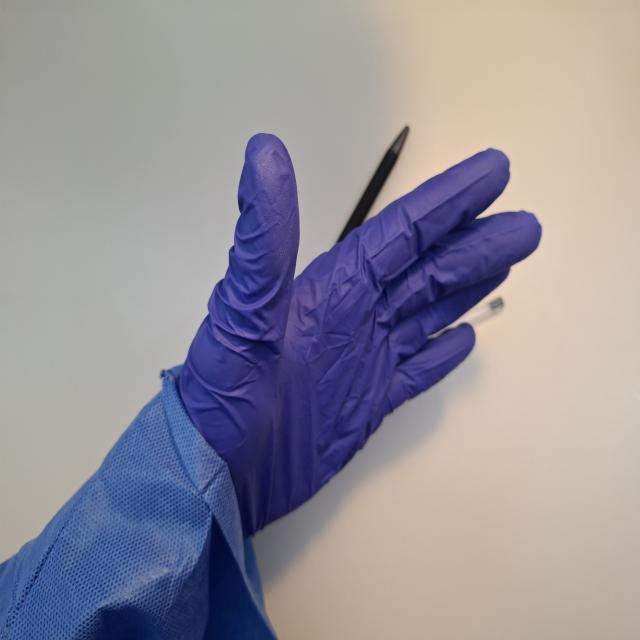glove_on: (171, 129, 544, 540)
